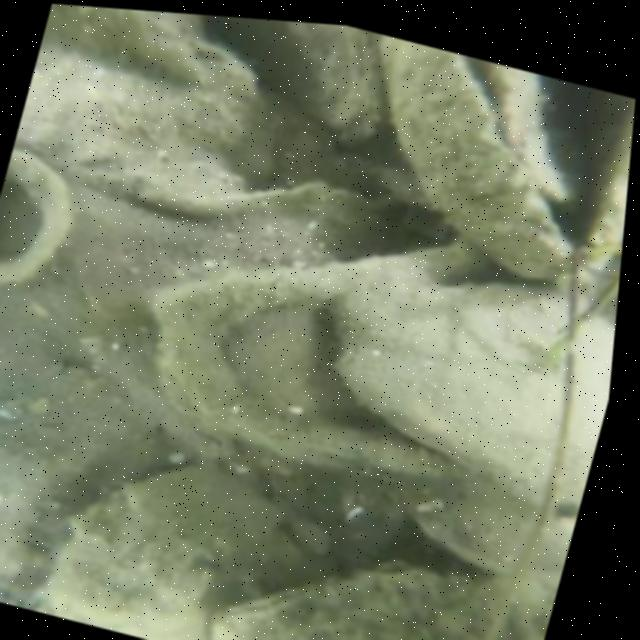Oyster-Closed: (552, 502, 578, 540)
Oyster-Indeterminate: (146, 236, 566, 482), (337, 278, 616, 500), (30, 466, 279, 626), (18, 23, 265, 167), (208, 559, 561, 640), (227, 17, 387, 151), (484, 61, 591, 222), (48, 4, 211, 85)
Oyster-Open: (385, 37, 635, 289)
